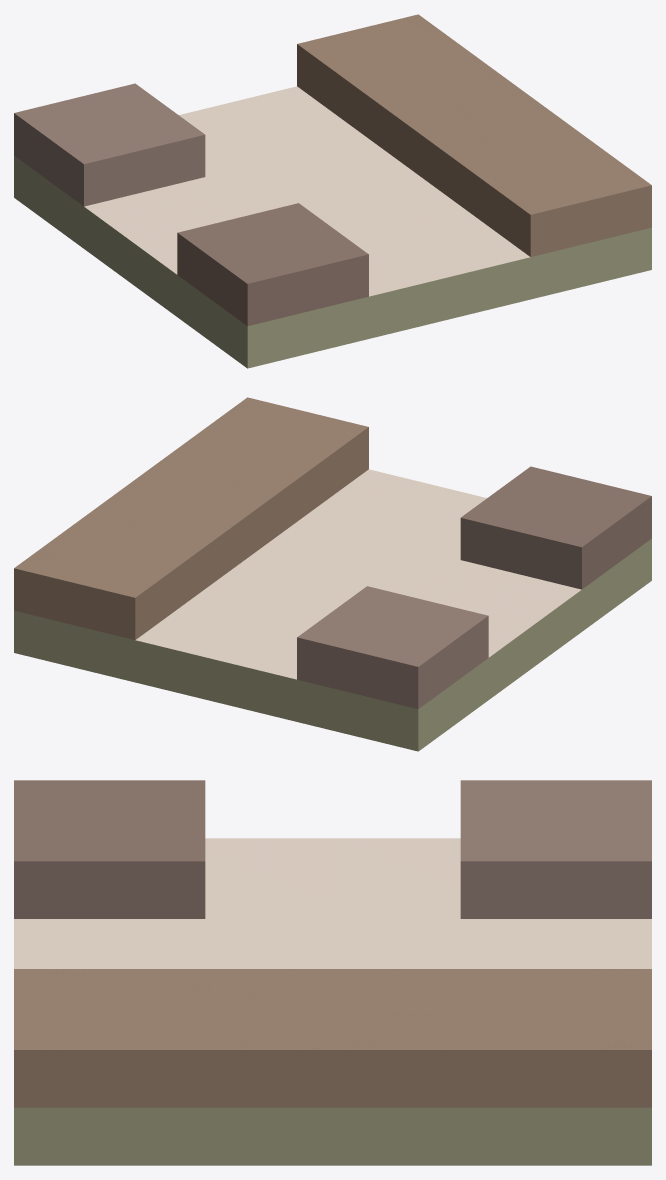
File: oTile-transformed.glb
3 views of the same model, one above another, from view 1: azimuth 30°, elevation 25°; view 2: azimuth 150°, elevation 25°; view 3: azimuth 270°, elevation 25° (orthographic). The views are drawn at different scales.
Parts seen in each view (by area): view 1: flor_tile; view 2: flor_tile; view 3: flor_tile.
Boxes of the visible parts, x1,y1,x2,y2 form: flor_tile: [14, 14, 651, 368]; flor_tile: [14, 397, 651, 751]; flor_tile: [14, 780, 651, 1165].
Size of the model in its own units: 2 by 0.4 by 2.
Materials: 1 (1 with a texture image).
